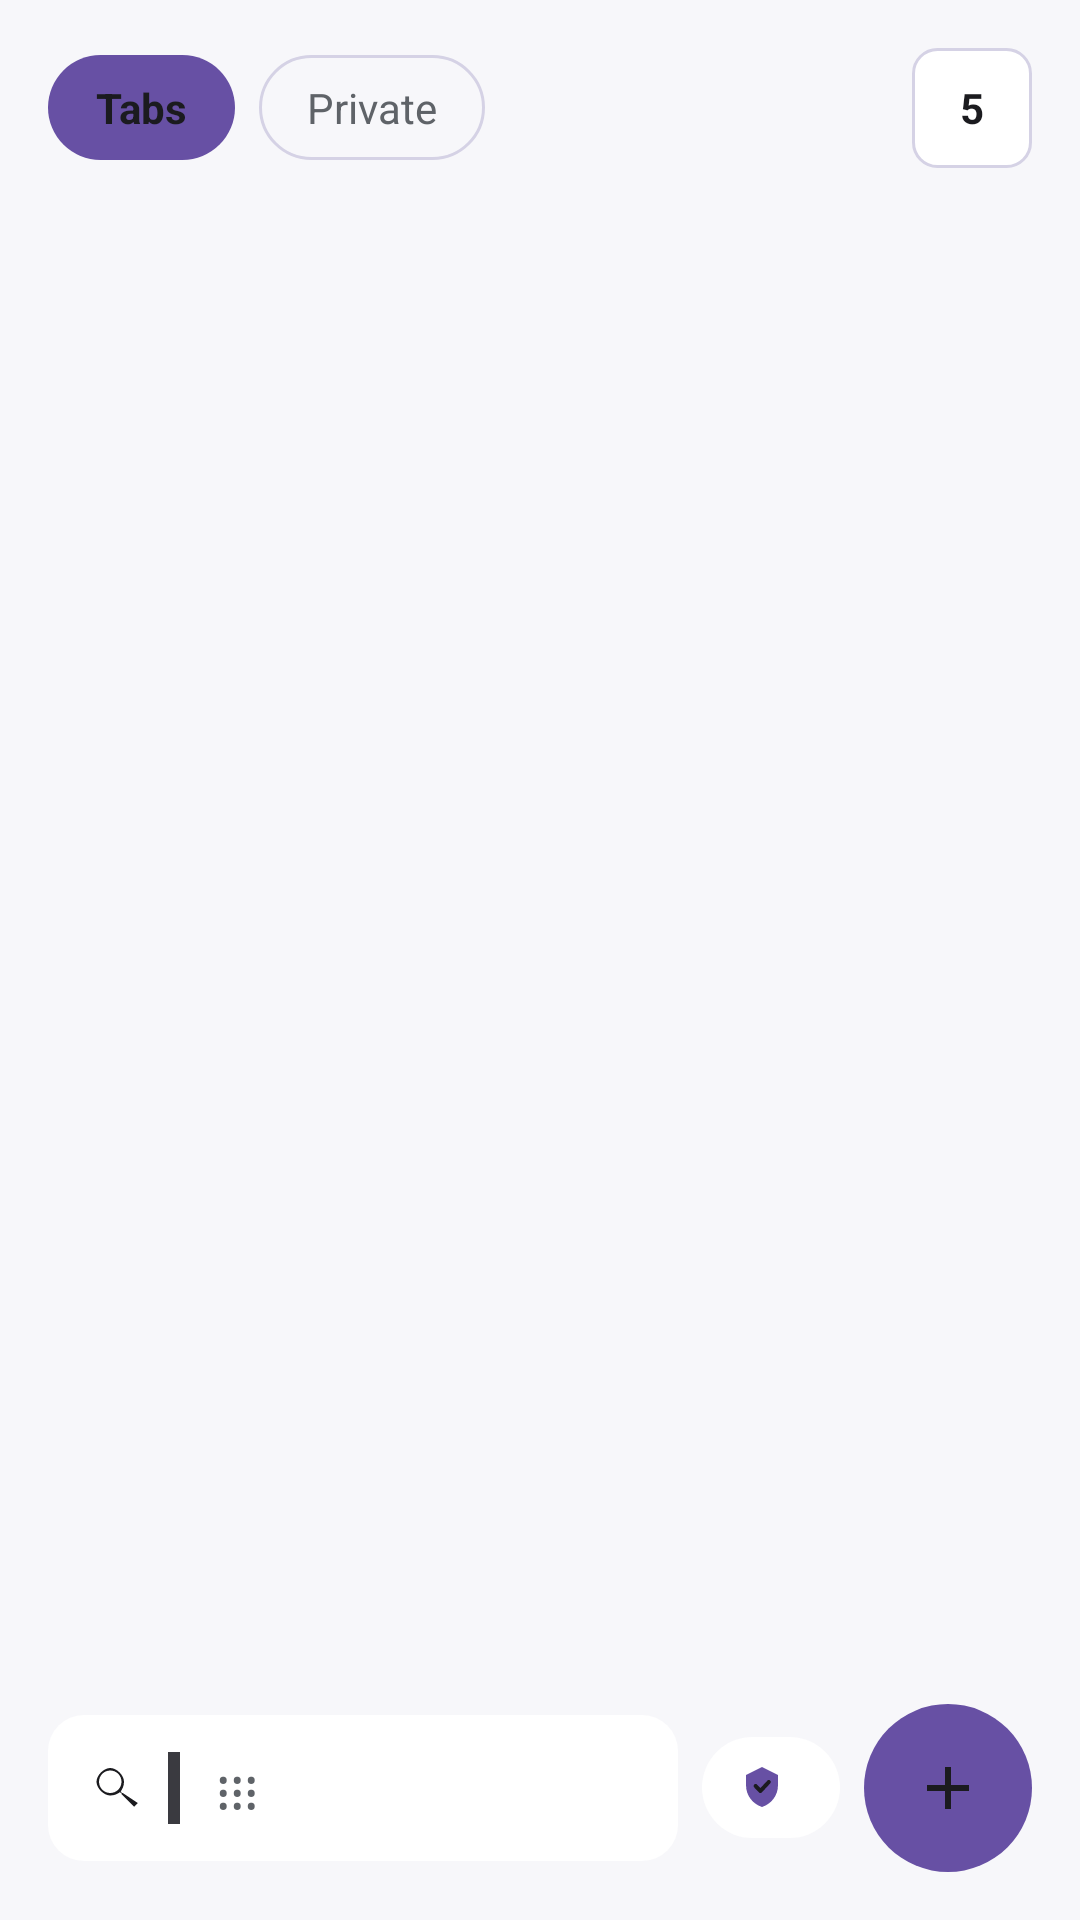

Icons on this 1080*1920 Android screen, each with its box as rect(x1, y1, x2, y2):
New tab: rect(864, 1704, 1032, 1872)
search: rect(96, 1768, 138, 1807)
shield: rect(746, 1767, 778, 1807)
